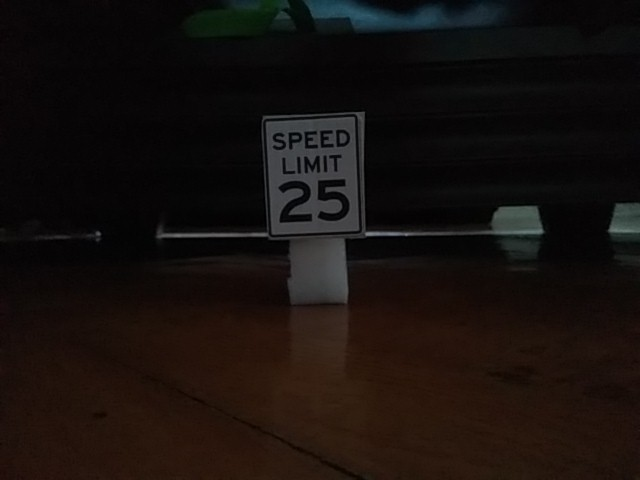Speed Limit 25: (262, 113, 366, 241)
